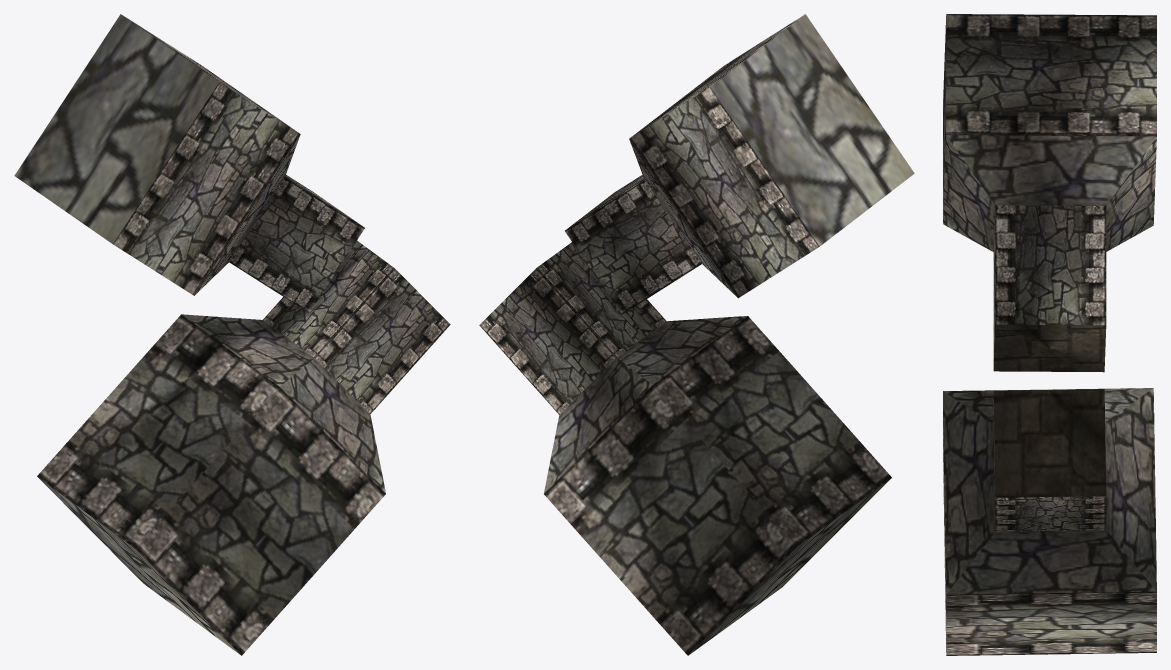
File: column-B-destr_02.obj
3 renders of one model, left to right at view 1: azimuth 30°, elevation 25°; view 2: azimuth 150°, elevation 25°; view 3: azimuth 270°, elevation 25°, orthographic. The views are drawn at different scales.
Parts seen in each view (by area): view 1: (null); view 2: (null); view 3: (null).
Part boxes in pixels (box(x1,y1,x2,y2)): (null): box(14, 14, 450, 655); (null): box(479, 14, 914, 655); (null): box(943, 14, 1156, 655).
Size of the model in its own units: 2.7 by 4.11 by 1.26.
